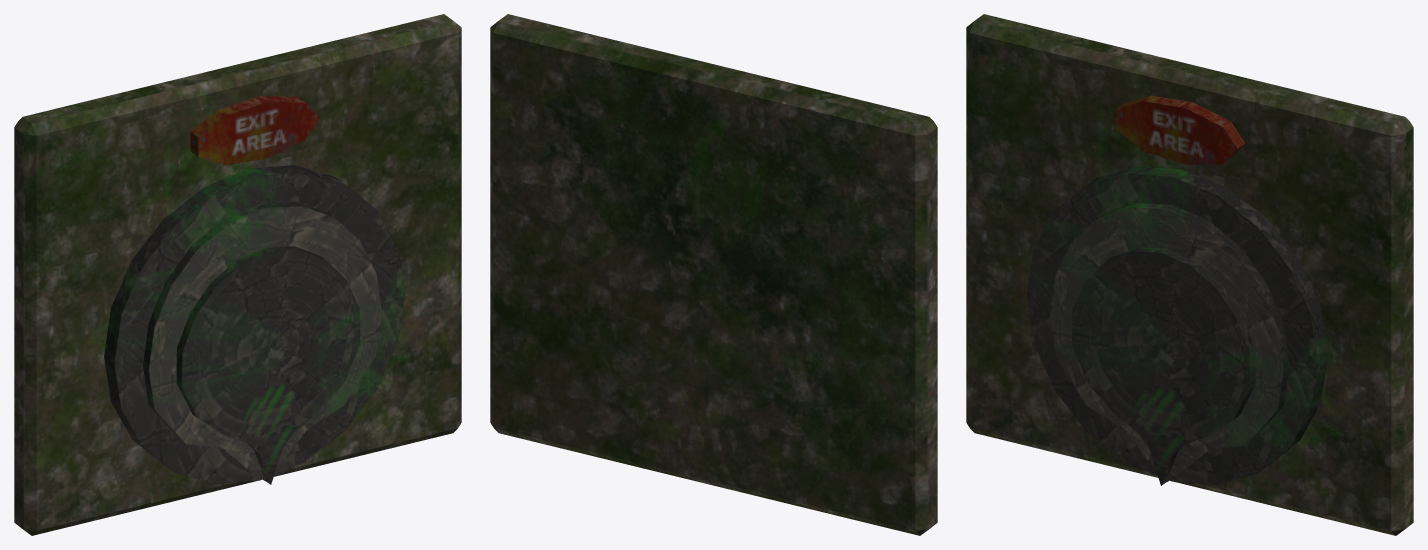
Rendered from MK_CampWall_Door.glb.
3 renders of one model, left to right at view 1: azimuth 30°, elevation 25°; view 2: azimuth 150°, elevation 25°; view 3: azimuth 330°, elevation 25°, orthographic.
Visible parts, largest first — view 1: MK_CampWall_Door; view 2: MK_CampWall_Door; view 3: MK_CampWall_Door.
Part boxes in pixels (x1,y1,x2,y2): MK_CampWall_Door: (14,14,461,535); MK_CampWall_Door: (490,14,937,535); MK_CampWall_Door: (966,14,1413,535).
Size of the model in its own units: 133 by 120 by 21.36.
1 material, 1 textured.
